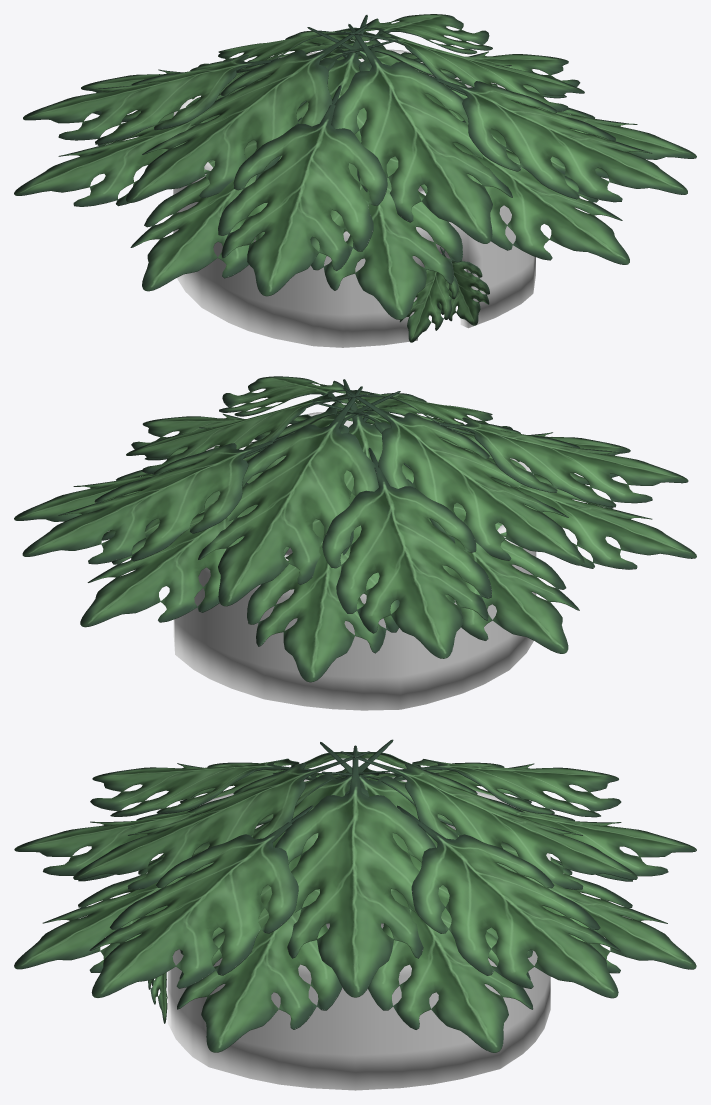
Rendered from turtle_house.fbx.
3 renders of one model, top to bottom at view 1: azimuth 30°, elevation 25°; view 2: azimuth 150°, elevation 25°; view 3: azimuth 270°, elevation 25°, orthographic. The views are drawn at different scales.
Visible parts, largest first — view 1: foglia_palma.005, muri, foglia_palma, foglia_palma.003, foglia_palma.004, foglia_palma.017, foglia_palma.007, foglia_palma.013, foglia_palma.015, foglia_palma.019, foglia_palma.001, foglia_palma.006 (+10 smaller); view 2: muri, foglia_palma.007, foglia_palma.002, foglia_palma.003, foglia_palma.006, foglia_palma.014, foglia_palma.005, foglia_palma.018, foglia_palma.019, foglia_palma.015, foglia_palma.001, foglia_palma.004 (+8 smaller); view 3: muri, foglia_palma.001, foglia_palma.004, foglia_palma.006, foglia_palma.016, foglia_palma.012, foglia_palma.002, foglia_palma, foglia_palma.005, foglia_palma.007, foglia_palma.013, foglia_palma.018 (+8 smaller).
Boxes of the visible parts, bbox=[...] form: foglia_palma.005: bbox=[218, 85, 387, 296]; muri: bbox=[173, 49, 535, 347]; foglia_palma: bbox=[331, 24, 512, 243]; foglia_palma.003: bbox=[126, 25, 367, 202]; foglia_palma.004: bbox=[420, 72, 687, 202]; foglia_palma.017: bbox=[310, 156, 462, 319]; foglia_palma.007: bbox=[23, 54, 273, 144]; foglia_palma.013: bbox=[453, 120, 629, 264]; foglia_palma.015: bbox=[130, 117, 301, 291]; foglia_palma.019: bbox=[14, 97, 222, 206]; foglia_palma.001: bbox=[343, 30, 584, 111]; foglia_palma.006: bbox=[358, 14, 492, 54]; muri: bbox=[173, 412, 536, 710]; foglia_palma.007: bbox=[322, 448, 491, 658]; foglia_palma.002: bbox=[198, 386, 378, 606]; foglia_palma.003: bbox=[343, 388, 584, 565]; foglia_palma.006: bbox=[22, 433, 292, 564]; foglia_palma.014: bbox=[247, 519, 399, 682]; foglia_palma.005: bbox=[438, 417, 688, 507]; foglia_palma.018: bbox=[80, 482, 257, 627]; foglia_palma.019: bbox=[407, 479, 579, 653]; foglia_palma.015: bbox=[488, 460, 696, 569]; foglia_palma.001: bbox=[126, 393, 367, 474]; foglia_palma.004: bbox=[219, 376, 352, 416]; muri: bbox=[167, 779, 550, 1090]; foglia_palma.001: bbox=[275, 745, 435, 997]; foglia_palma.004: bbox=[89, 805, 313, 997]; foglia_palma.006: bbox=[397, 805, 620, 998]; foglia_palma.016: bbox=[177, 884, 342, 1052]; foglia_palma.012: bbox=[368, 885, 533, 1052]; foglia_palma.002: bbox=[340, 751, 637, 889]; foglia_palma: bbox=[73, 751, 370, 889]; foglia_palma.005: bbox=[90, 758, 311, 816]; foglia_palma.007: bbox=[400, 759, 621, 817]; foglia_palma.013: bbox=[14, 842, 209, 972]; foglia_palma.018: bbox=[501, 842, 696, 973].
Size of the model in its own units: 331 by 139 by 331.
